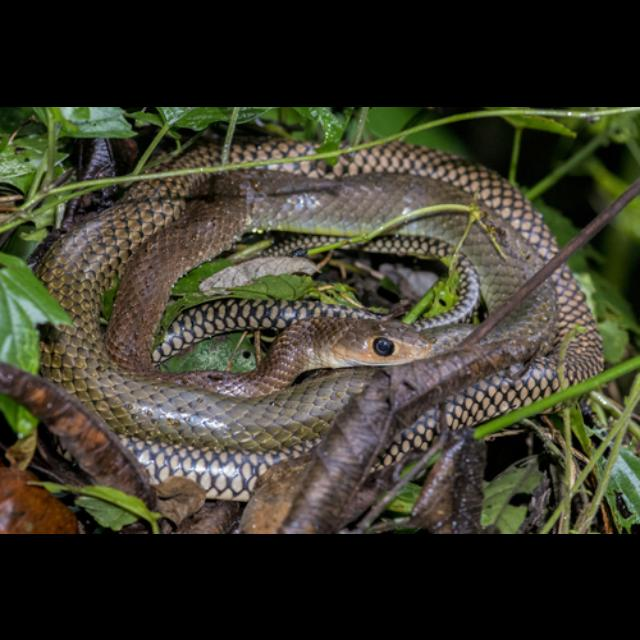snake: (12, 138, 604, 504)
